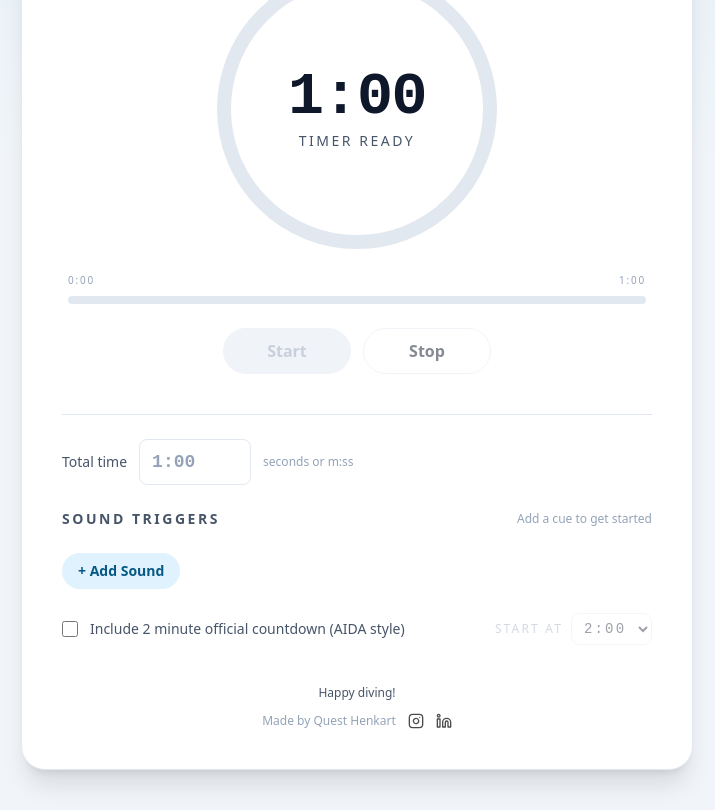
Scenario: TimerSoundApp › starts countdown when option enabled
The image size is (715, 810).
(page scrolled)
Click the button "+ Add Sound": coordinates (121, 571) [62,553,180,589]
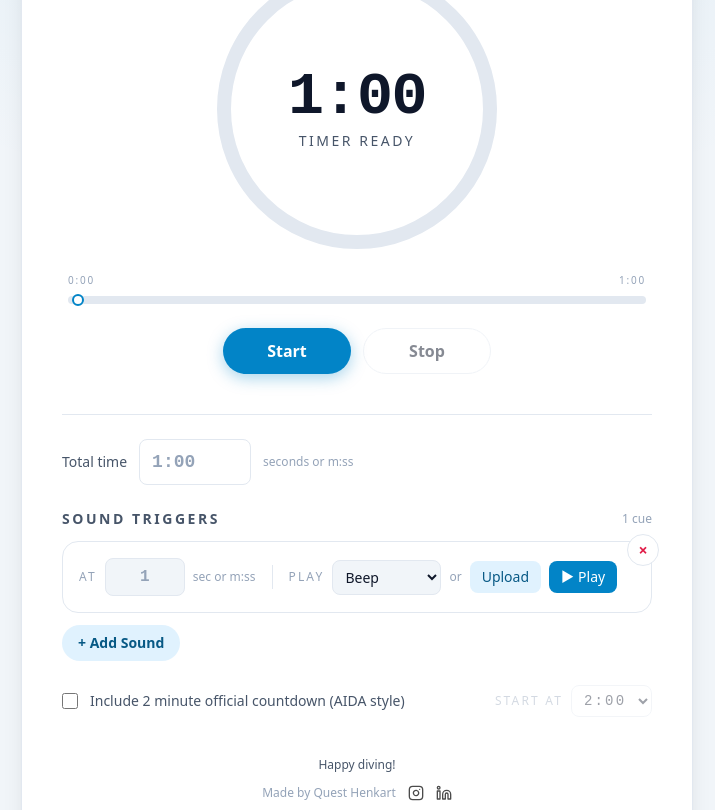
Select "Ding" in the 1st dropdown: coordinates (387, 577) [332,560,441,594]
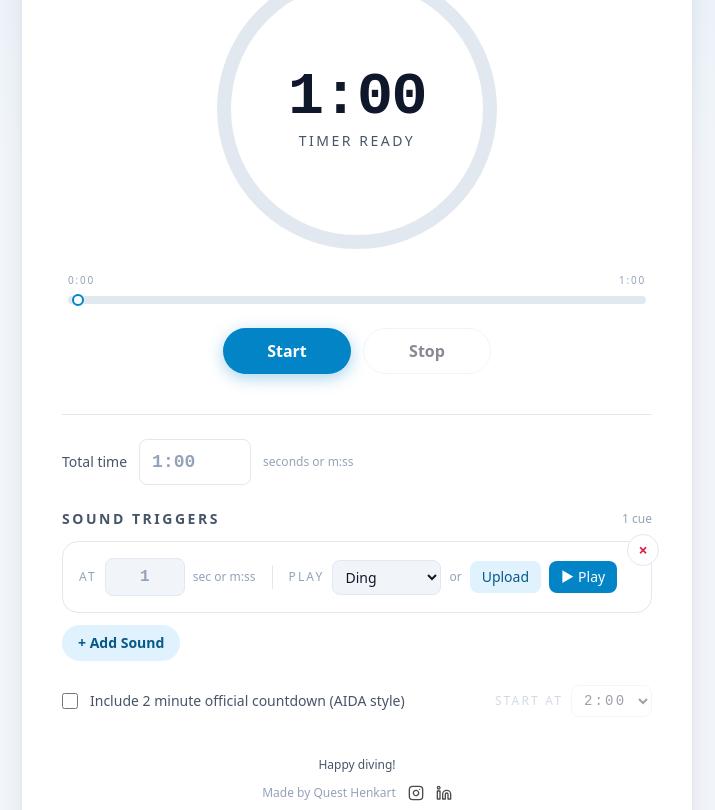
Click the checkbox labelled "Include 2 minute official countdown (AIDA style)": coordinates (70, 701) [62,693,78,709]
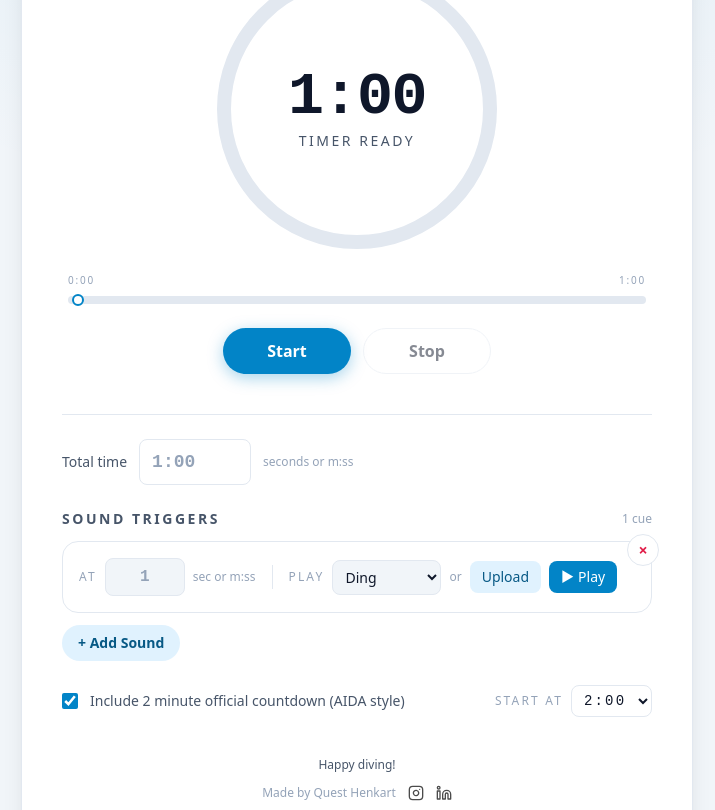
Click the button "Start": coordinates (287, 351) [223,328,351,374]
Wait 121000 ms
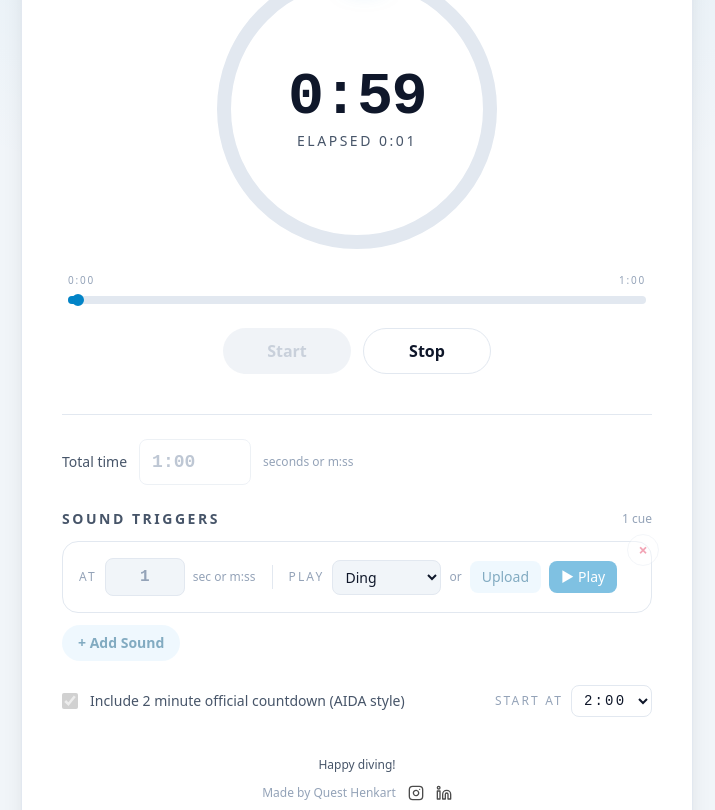
Result: the text "Elapsed 0:01" is shown at [297,131,417,151]
